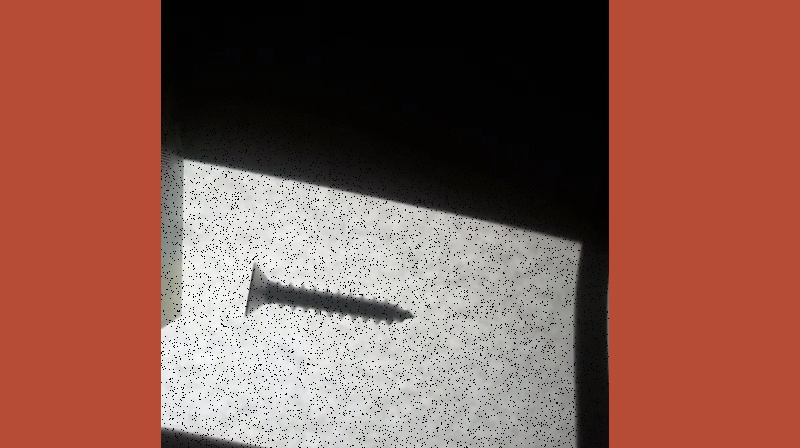S001: (242, 256, 416, 330)
